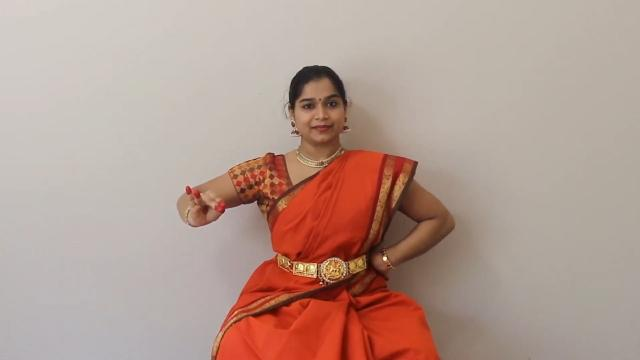katak: (165, 168, 242, 258)
